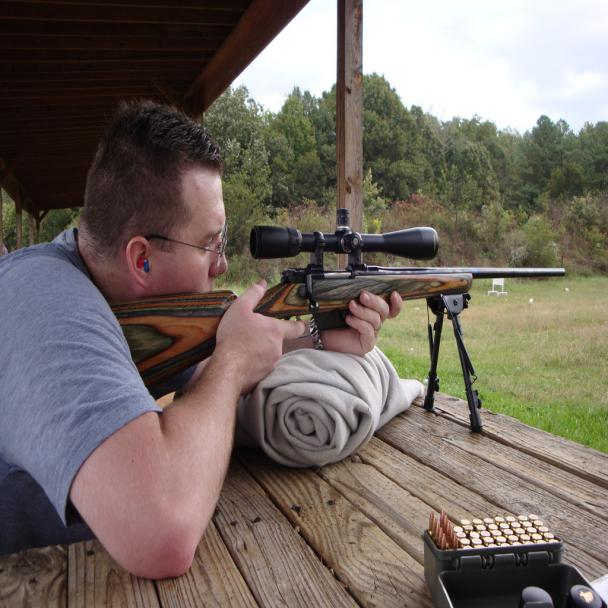Gun: (104, 219, 580, 387)
